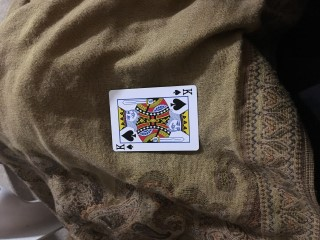KingOfSpades: (108, 85, 199, 153)
